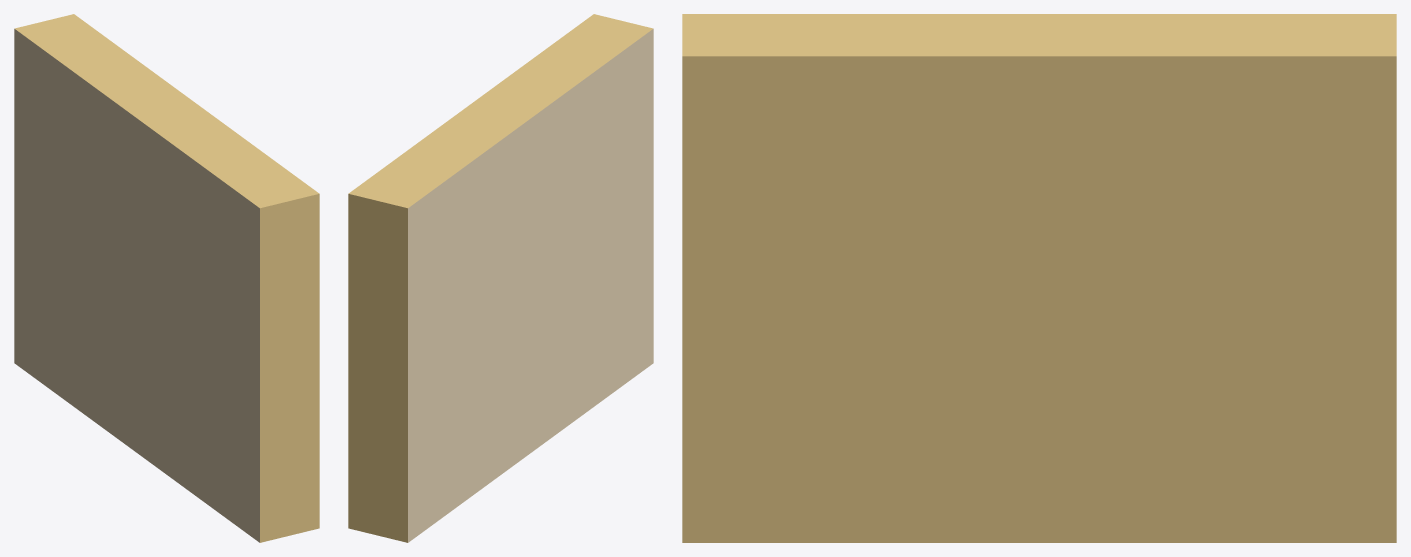
File: SalleRandom_Mur01.fbx
3 renders of one model, left to right at view 1: azimuth 30°, elevation 25°; view 2: azimuth 150°, elevation 25°; view 3: azimuth 270°, elevation 25°, orthographic. The views are drawn at different scales.
Parts seen in each view (by area): view 1: Mur01; view 2: Mur01; view 3: Mur01.
Part boxes in pixels (x1=…): Mur01: x1=14, y1=14, x2=319, y2=542; Mur01: x1=348, y1=14, x2=653, y2=542; Mur01: x1=682, y1=14, x2=1396, y2=542.
Size of the model in its own units: 1.21 by 6.49 by 8.63.
